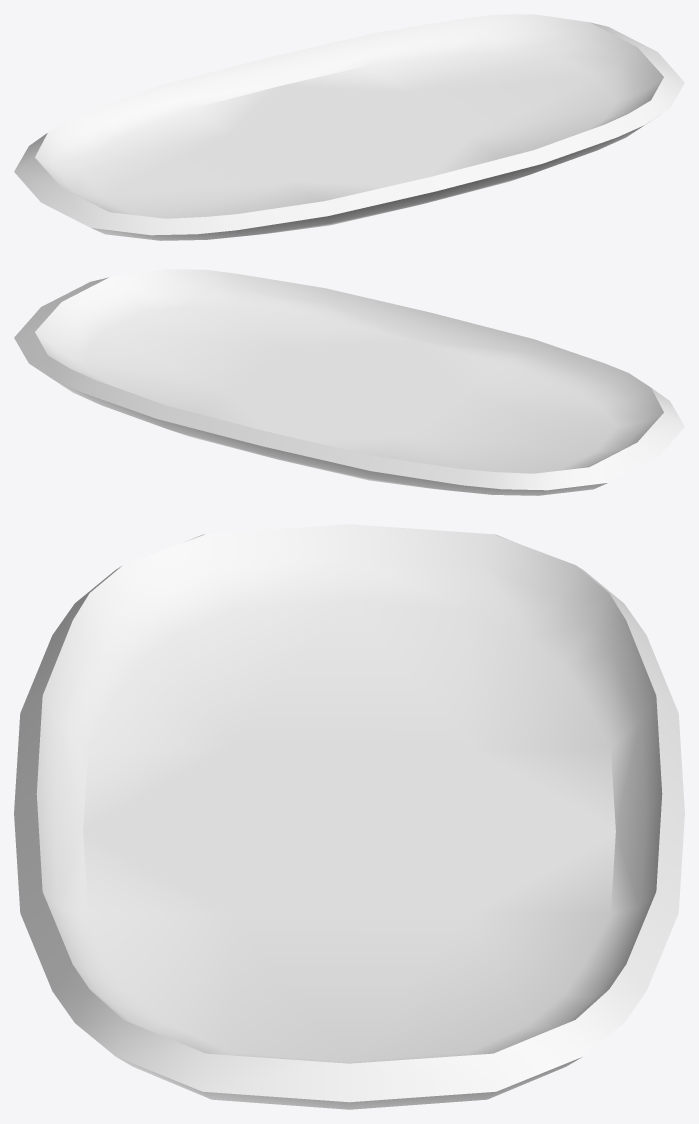
File: Plate_02.fbx
The picture shows the model from 3 angles, top to bottom: view 1: azimuth 30°, elevation 25°; view 2: azimuth 150°, elevation 25°; view 3: azimuth 270°, elevation 25°; orthographic projection. The views are drawn at different scales.
Visible parts, largest first — view 1: Plate_02; view 2: Plate_02; view 3: Plate_02.
Part boxes in pixels (<box>): Plate_02: <box>14,14,684,240</box>; Plate_02: <box>14,269,684,495</box>; Plate_02: <box>14,524,684,1109</box>.
Bounding box in the file's own units: 99.26 × 5.6 × 48.7.
